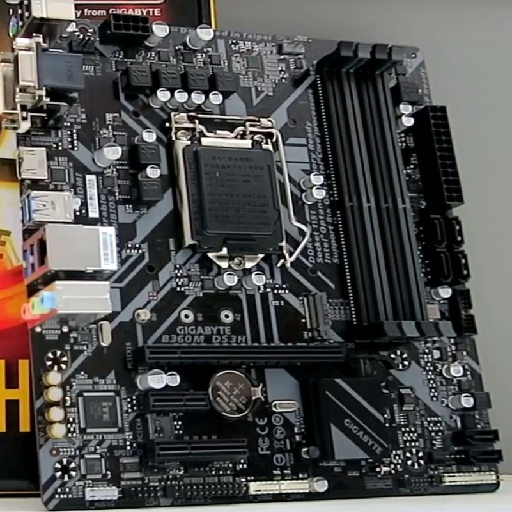CPU: (173, 133, 282, 272)
GPU: (130, 335, 385, 378)
MOTHERBOARD: (16, 5, 502, 506)
RAM: (315, 42, 457, 343)
SSD: (300, 291, 335, 340)
